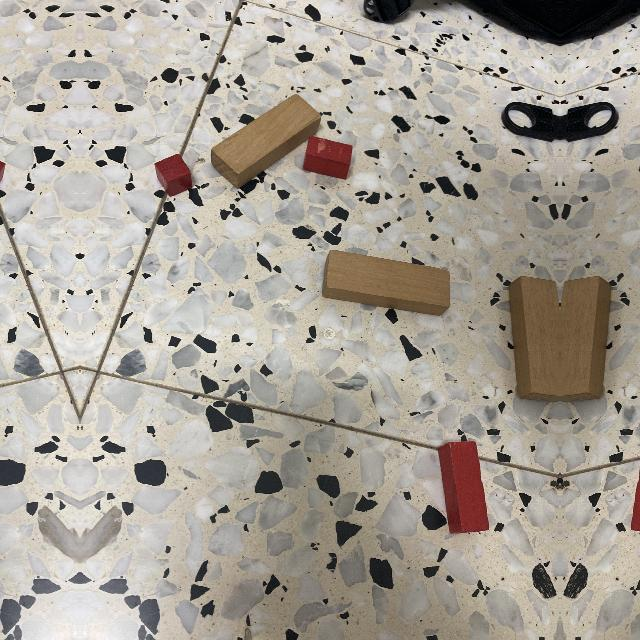jenga: (211, 93, 322, 189), (321, 250, 450, 316), (509, 277, 560, 403), (560, 277, 611, 403)
red block: (437, 441, 490, 537), (302, 136, 353, 180)
red cube: (154, 153, 192, 197)
